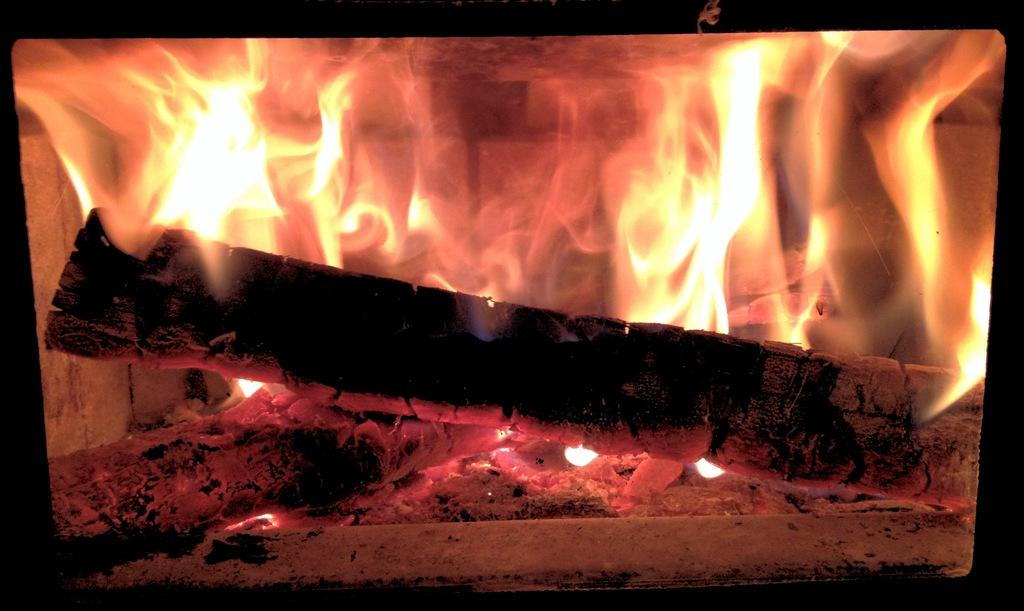Fire: (15, 37, 989, 393)
